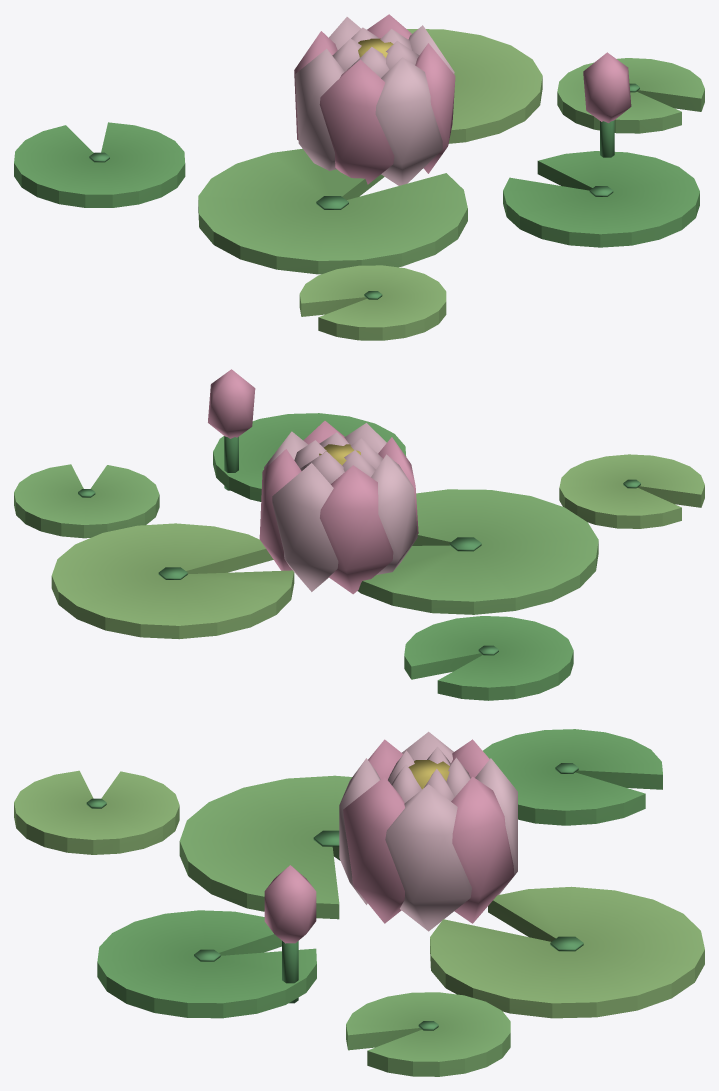
Rendered from terrain-pond-lily.glb.
3 renders of one model, top to bottom at view 1: azimuth 30°, elevation 25°; view 2: azimuth 150°, elevation 25°; view 3: azimuth 270°, elevation 25°, orthographic. The views are drawn at different scales.
Parts seen in each view (by area): view 1: terrain-pond-lily; view 2: terrain-pond-lily; view 3: terrain-pond-lily.
Boxes of the visible parts, bbox=[...] form: terrain-pond-lily: bbox=[14, 14, 704, 340]; terrain-pond-lily: bbox=[14, 369, 704, 700]; terrain-pond-lily: bbox=[14, 729, 704, 1076].
Bounding box in the file's own units: 0.5692 × 0.1192 × 0.4996.
